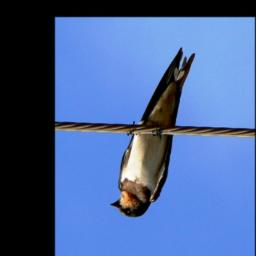Swallow: (109, 47, 196, 219)
